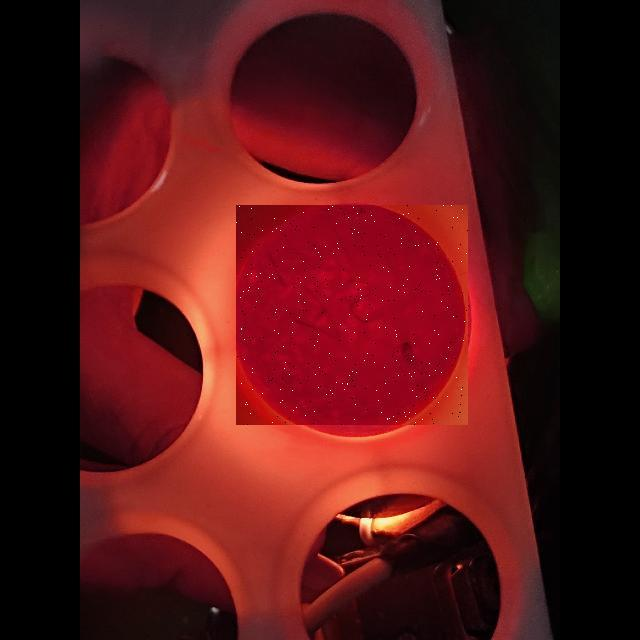Infertile: (236, 205, 468, 425)
